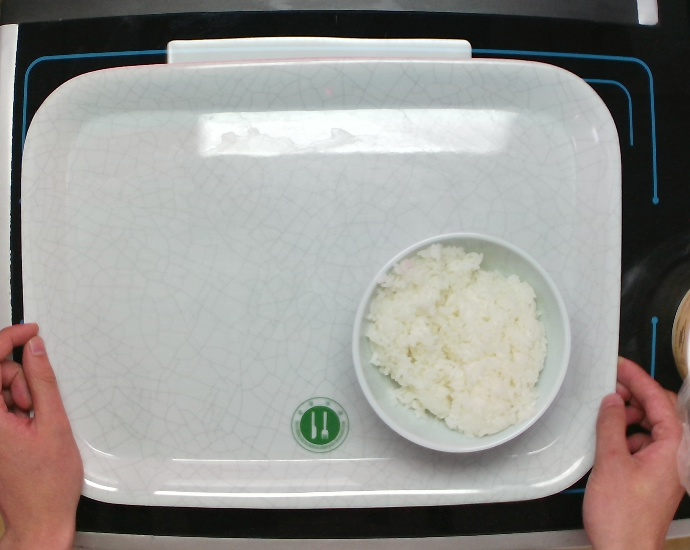JYsf-Fan_Wan: (350, 230, 573, 455)
